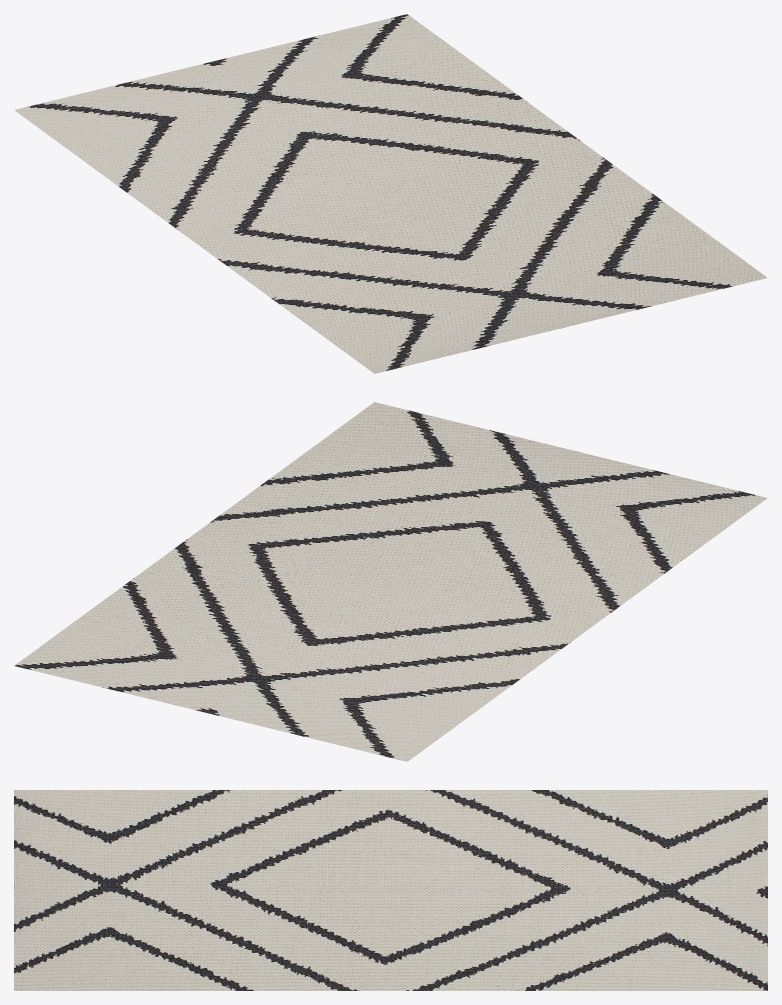
The model's file is alfombra1a.glb.
3 renders of one model, top to bottom at view 1: azimuth 30°, elevation 25°; view 2: azimuth 150°, elevation 25°; view 3: azimuth 270°, elevation 25°, orthographic. The views are drawn at different scales.
Parts seen in each view (by area): view 1: Plane024; view 2: Plane024; view 3: Plane024.
Boxes of the visible parts, box(x1,y1,x2,y2) form: Plane024: box(14, 14, 767, 373); Plane024: box(14, 402, 767, 761); Plane024: box(14, 790, 767, 990).
Size of the model in its own units: 5.37 by 3.78e-15 by 8.52.
Materials: 1 (1 with a texture image).
